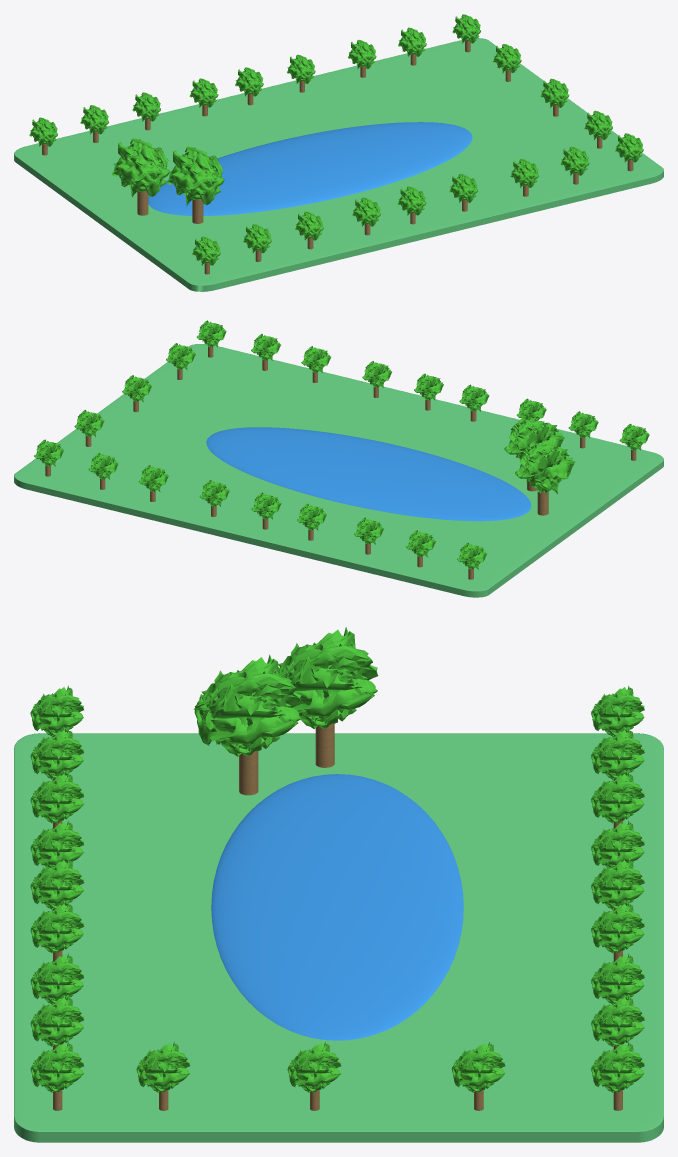
The model's file is park1.glb.
3 views of the same model, one above another, from view 1: azimuth 30°, elevation 25°; view 2: azimuth 150°, elevation 25°; view 3: azimuth 270°, elevation 25° (orthographic). The views are drawn at different scales.
Visible parts, largest first — view 1: land, water, Torus 3 (×2), Torus 2 (×2), Torus (×2); view 2: land, water, Torus 2 (×2), Torus 3, Torus, Torus 1; view 3: land, water, Torus 3 (×2), Torus 2 (×2), Torus 1 (×2), Torus (×2), stump (×2).
Boxes of the visible parts, <box> form: land: <box>14,38,663,291</box>; water: <box>148,122,472,215</box>; Torus 3 (×2): <box>112,157,220,204</box>; Torus 2 (×2): <box>127,138,224,205</box>; Torus (×2): <box>118,142,217,188</box>; land: <box>14,344,663,597</box>; water: <box>206,427,531,521</box>; Torus 2 (×2): <box>513,418,562,494</box>; Torus 3: <box>515,455,575,484</box>; Torus: <box>526,446,569,490</box>; Torus 1: <box>520,440,560,493</box>; land: <box>14,733,663,1142</box>; water: <box>211,774,463,1040</box>; Torus 3 (×2): <box>194,642,377,745</box>; Torus 2 (×2): <box>201,643,378,748</box>; Torus 1 (×2): <box>193,656,362,725</box>; Torus (×2): <box>195,627,356,756</box>; stump (×2): <box>239,723,334,795</box>.
Bounding box in the file's own units: 3.7 × 0.5856 × 2.55.
Materials: 117 (23 with a texture image).
